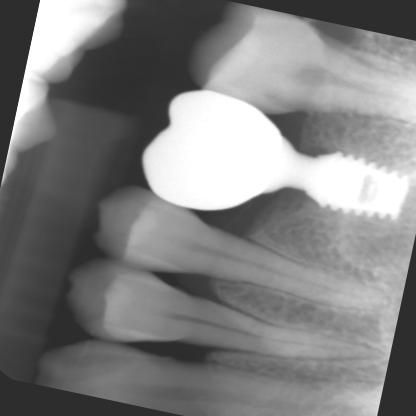Bicon: (302, 140, 415, 228)
